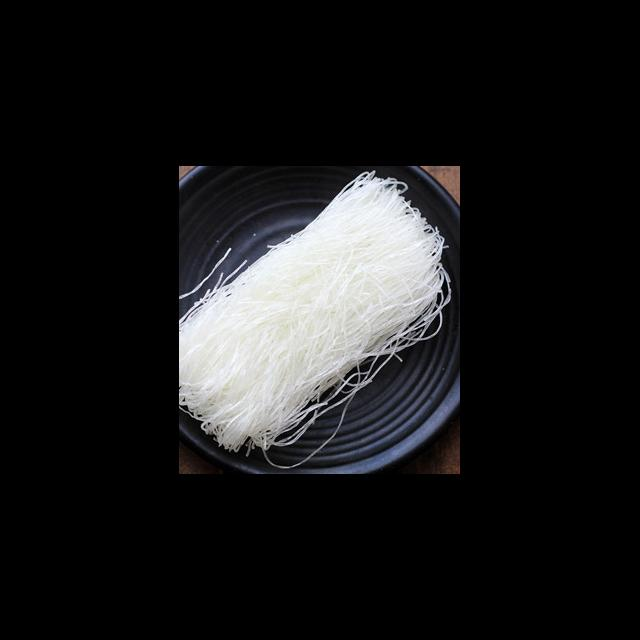noodles: (185, 171, 452, 454)
